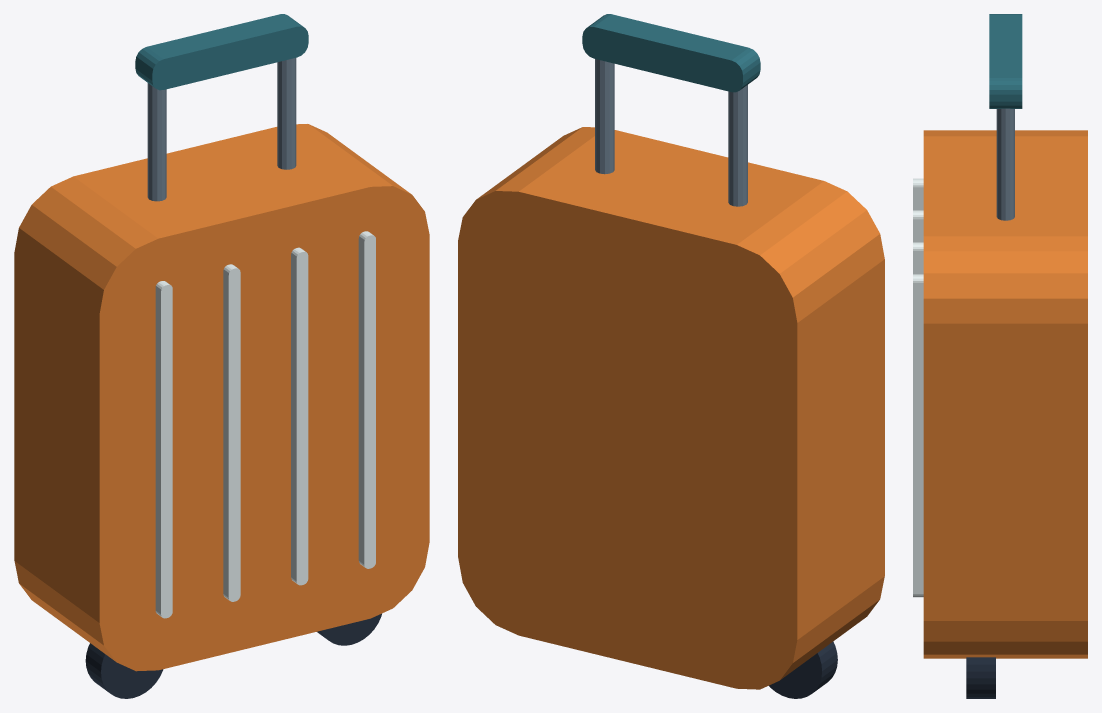
The model's file is suitcase.glb.
3 views of the same model, side by side, from view 1: azimuth 30°, elevation 25°; view 2: azimuth 150°, elevation 25°; view 3: azimuth 270°, elevation 25° (orthographic). The views are drawn at different scales.
Parts seen in each view (by area): view 1: hard shell, handle grip, rib 1, rib 0, rib 2, rib 3, telescopic -0.22, telescopic 0.22, caster -0.37, caster 0.37; view 2: hard shell, handle grip, telescopic -0.22, telescopic 0.22, caster -0.37; view 3: hard shell, rib 3, handle grip, telescopic 0.22, caster 0.37, rib 0, rib 1, rib 2.
Boxes of the visible parts, box(x1,y1,x2,y2) form: hard shell: box(14, 124, 429, 671); handle grip: box(135, 14, 308, 90); rib 1: box(223, 264, 240, 601); rib 0: box(155, 281, 172, 618); rib 2: box(291, 247, 308, 585); rib 3: box(358, 231, 375, 568); telescopic -0.22: box(147, 83, 166, 201); telescopic 0.22: box(277, 58, 296, 169); caster -0.37: box(85, 643, 163, 698); caster 0.37: box(317, 613, 381, 645); hard shell: box(458, 127, 884, 689); handle grip: box(582, 14, 760, 92); telescopic -0.22: box(728, 85, 747, 206); telescopic 0.22: box(595, 59, 614, 174); caster -0.37: box(769, 641, 837, 698); hard shell: box(923, 130, 1087, 658); rib 3: box(913, 274, 923, 597); handle grip: box(989, 14, 1022, 108); telescopic 0.22: box(996, 108, 1014, 220); caster 0.37: box(966, 657, 995, 698); rib 0: box(913, 178, 923, 210); rib 1: box(913, 210, 923, 242); rib 2: box(913, 242, 923, 274).
Bounding box in the file's own units: 1.12 × 2.01 × 0.5325.
